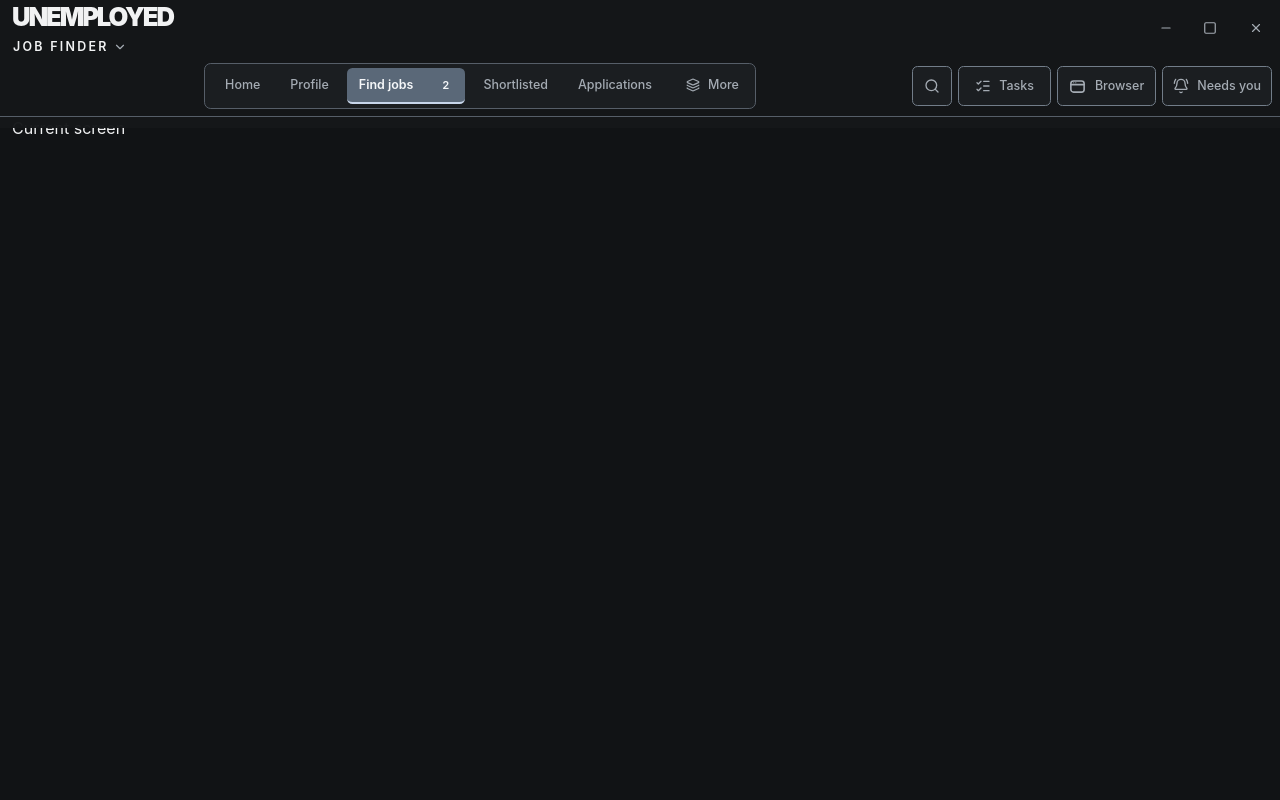
Test: JobFinderShell stacked overlay ownership › dismisses the search result popup before closing the dialog on repeated Escape
The image size is (1280, 800).
Press k
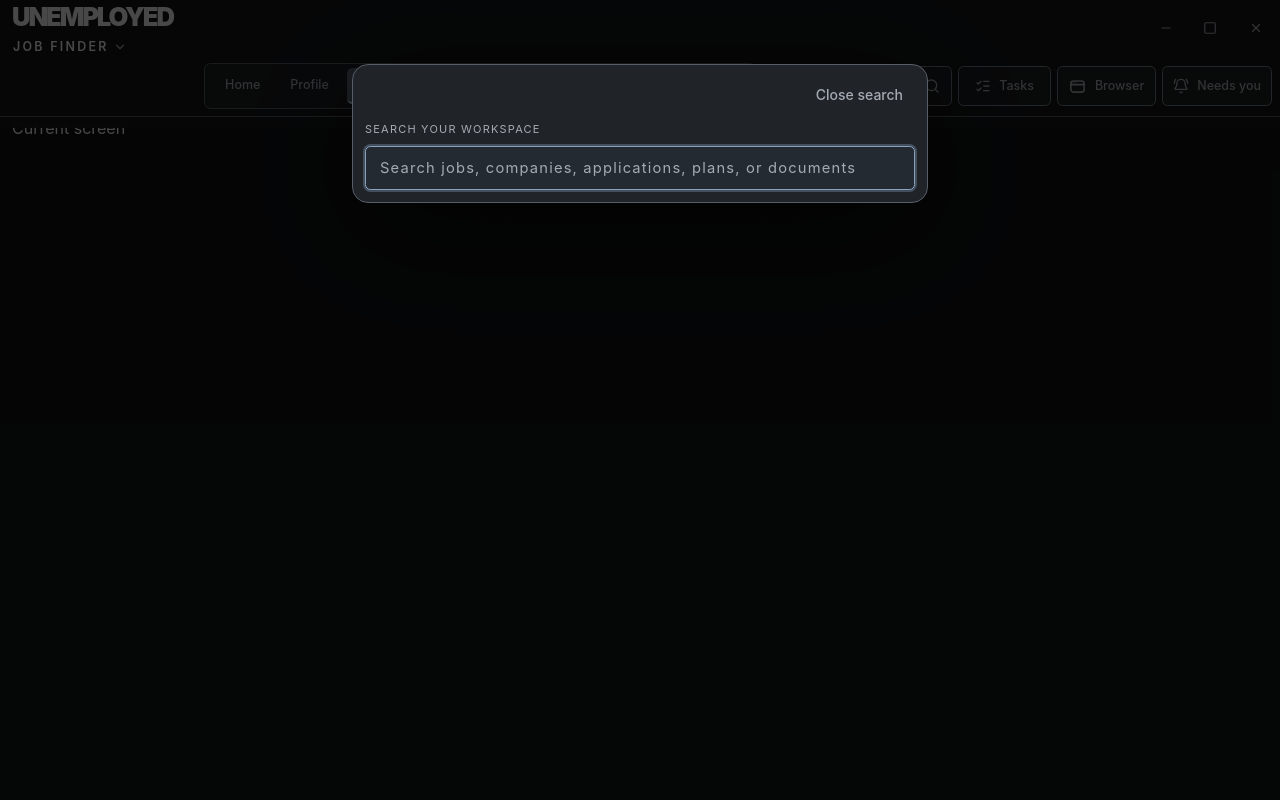
Expected: the dialog "Search your workspace" is shown, [352,64,928,202]
Type "platform engineer" into the dropdown labelled "Search your workspace". click: (640, 168)
box: [365,146,915,190]
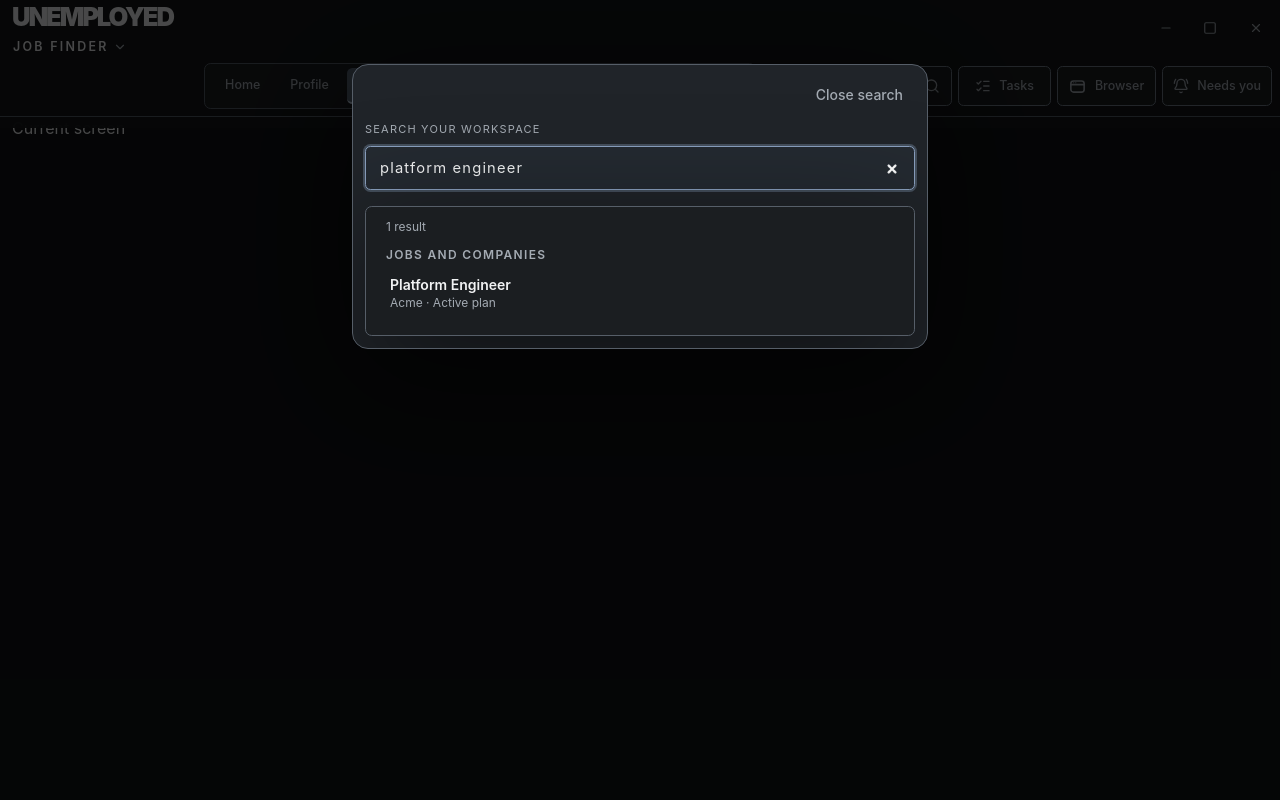
Expected: the text "1 result" is shown, [386,218,426,234]
Press Escape in the dropdown labelled "Search your workspace", box [365,146,915,190]
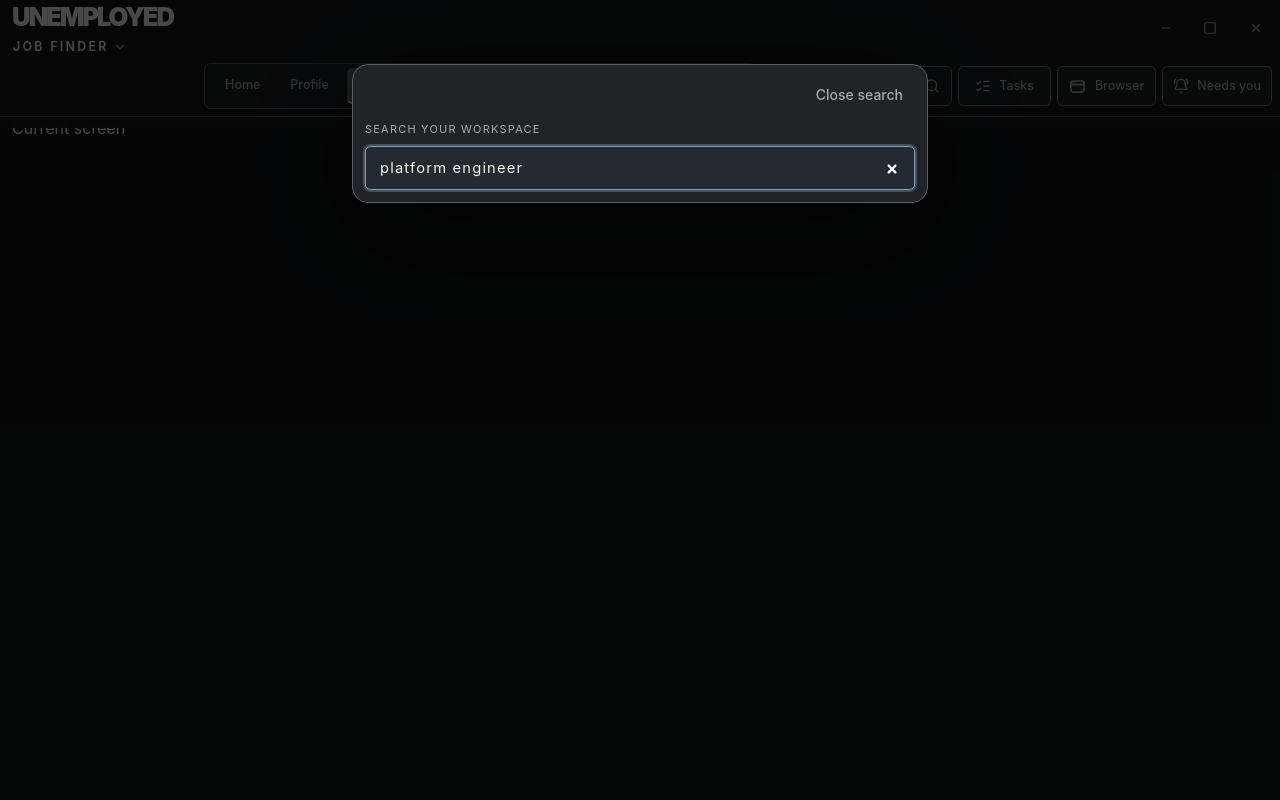
Expected: the dialog "Search your workspace" is shown, [352,64,928,202]
Expected: the text "1 result" is gone
Press Escape in the dropdown labelled "Search your workspace", box [365,146,915,190]
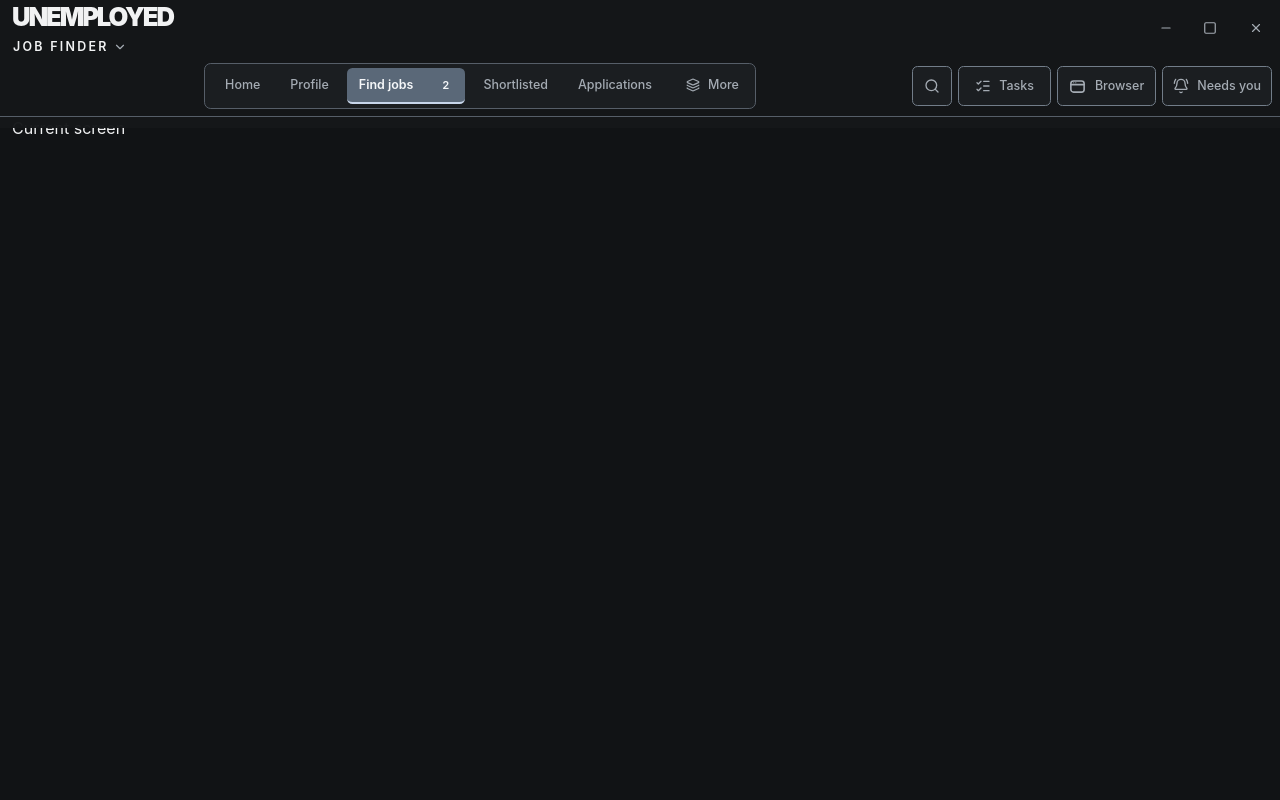
Expected: the label "Search your workspace" is gone
